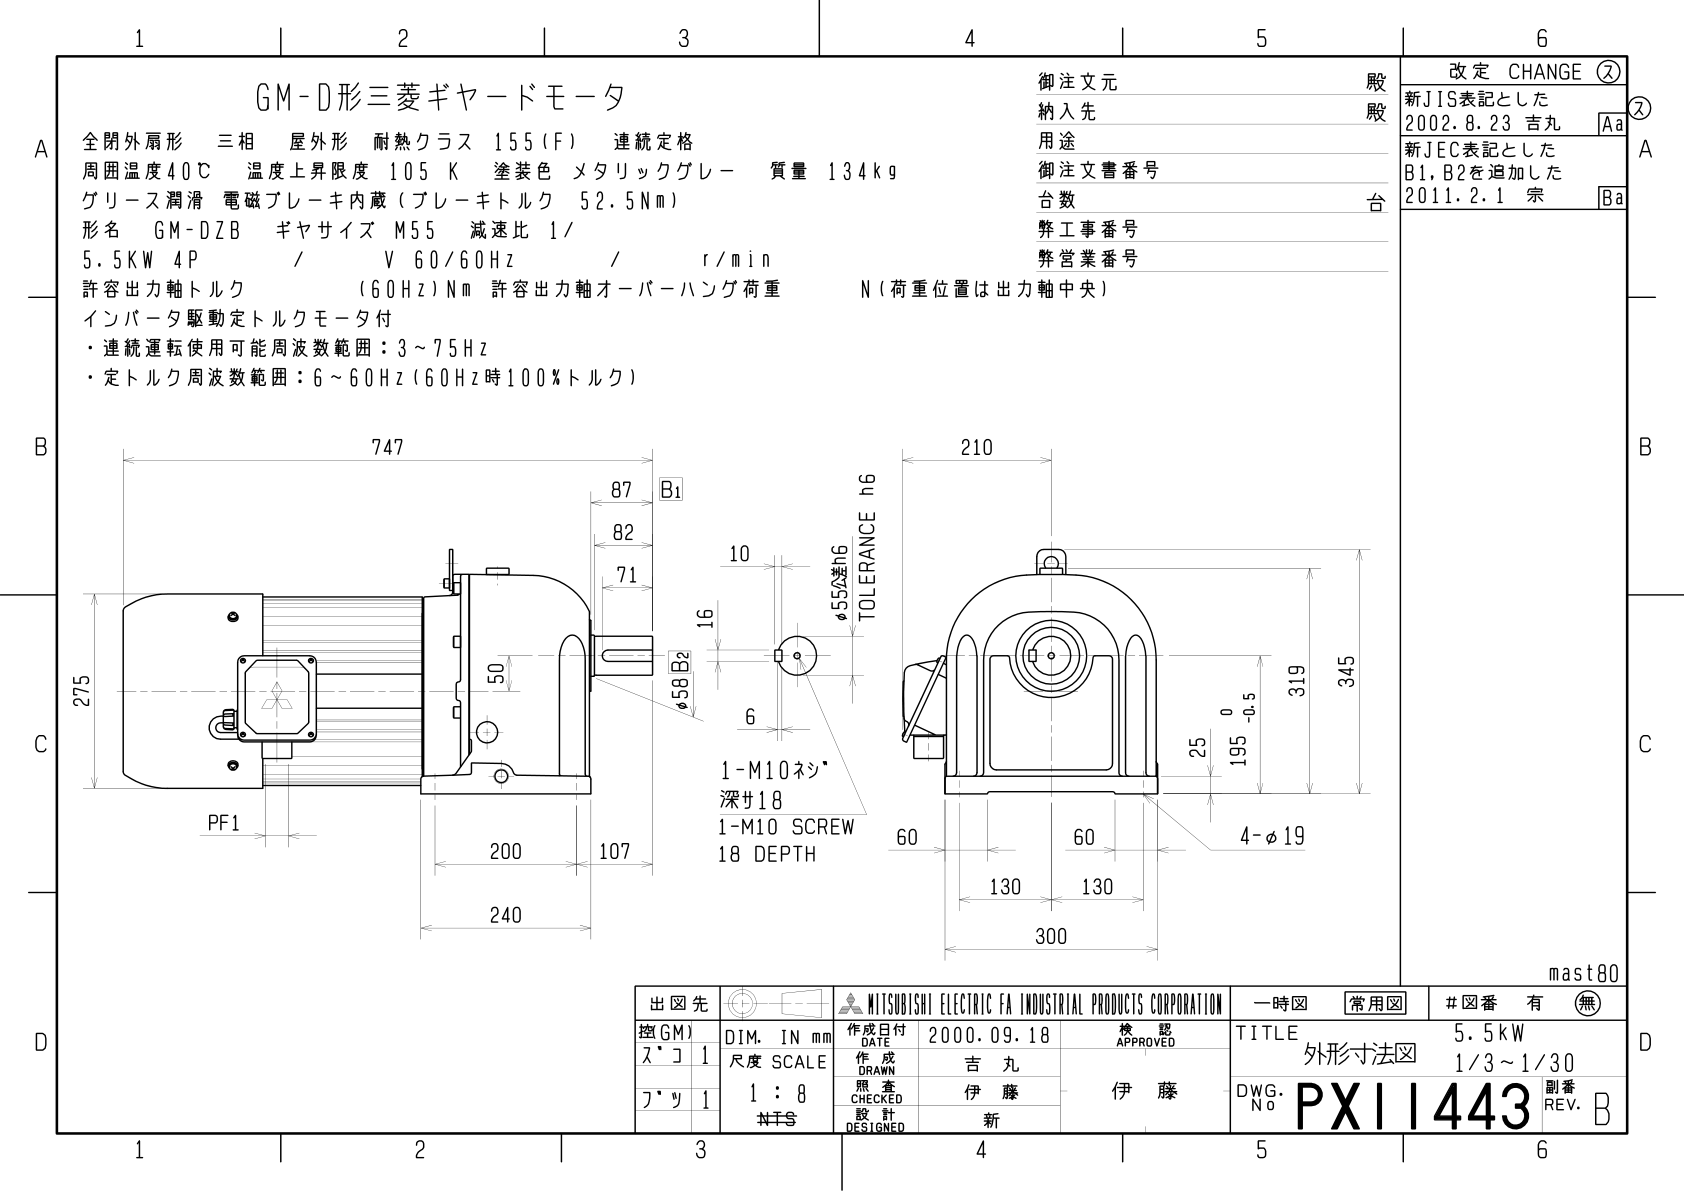GM_D_インバータ屋外_三相_脚: (1, 1, 1672, 1183)
